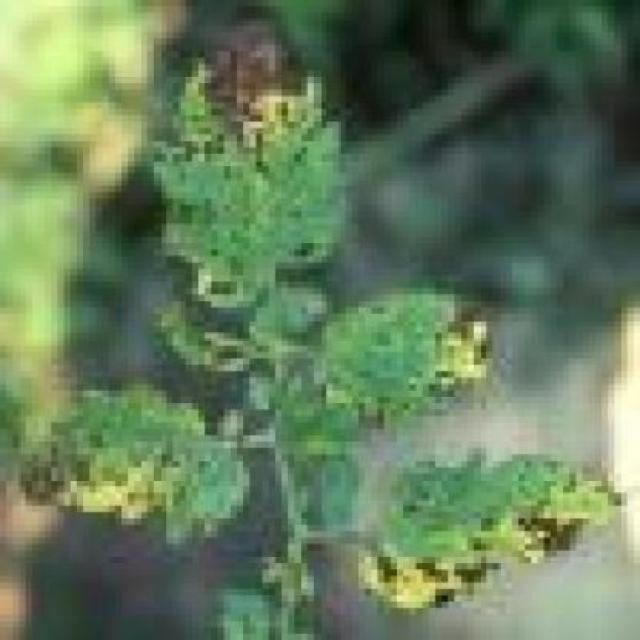Septoria leaf spot: (147, 19, 365, 307), (345, 448, 633, 622), (6, 378, 263, 556), (294, 295, 518, 422), (147, 301, 256, 384)
